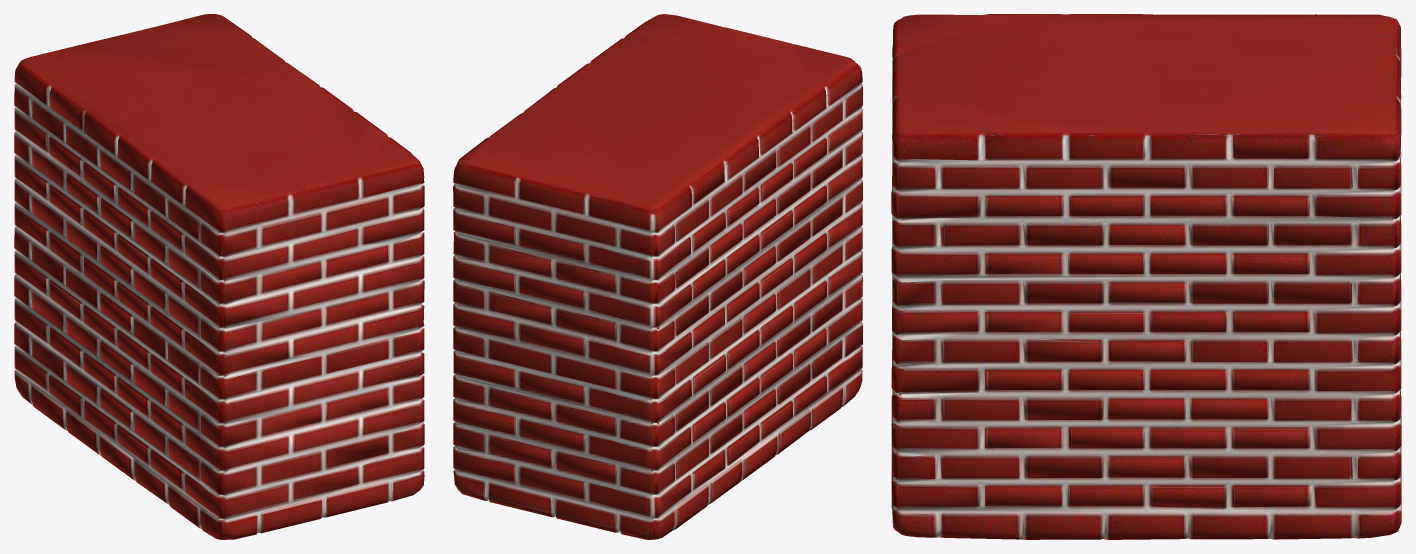
File: later_brick.glb
The picture shows the model from 3 angles, left to right: view 1: azimuth 30°, elevation 25°; view 2: azimuth 150°, elevation 25°; view 3: azimuth 270°, elevation 25°; orthographic projection. The views are drawn at different scales.
Visible parts, largest first — view 1: Model; view 2: Model; view 3: Model.
Part boxes in pixels (x1,y1,x2,y2): Model: [14, 14, 424, 539]; Model: [453, 14, 862, 539]; Model: [891, 14, 1401, 539].
Bounding box in the file's own units: 0.5708 × 0.8804 × 0.9976.
1 material, 1 textured.
